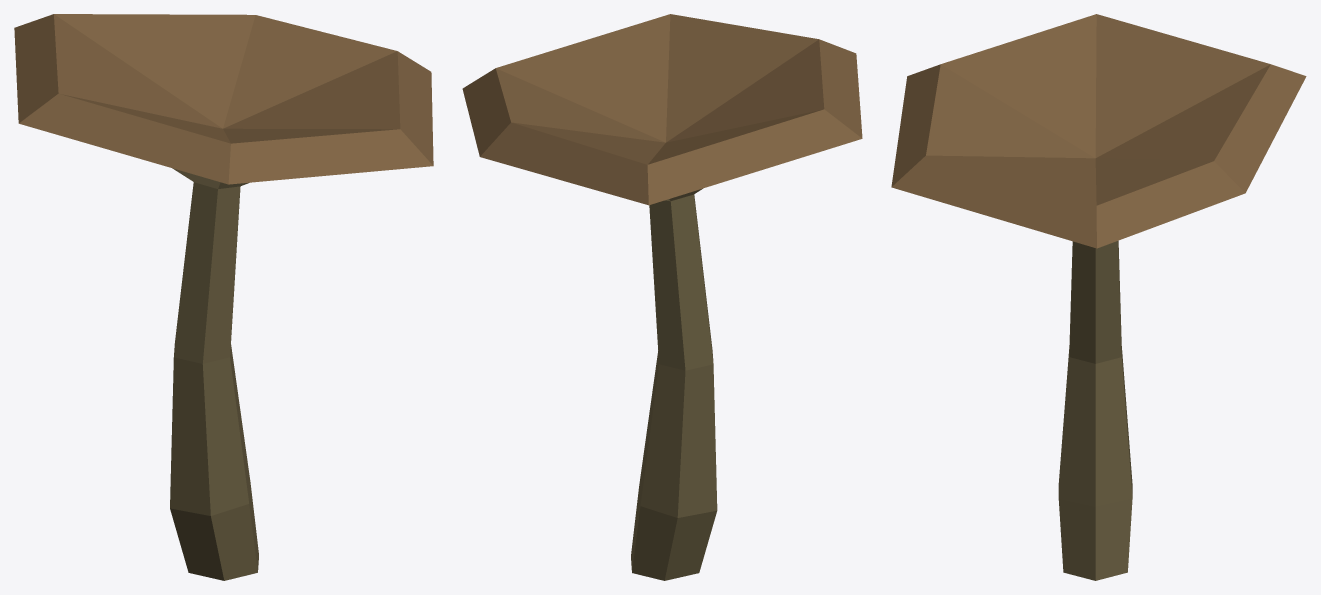
File: Mushroom-E02.fbx
The picture shows the model from 3 angles, left to right: view 1: azimuth 30°, elevation 25°; view 2: azimuth 150°, elevation 25°; view 3: azimuth 270°, elevation 25°; orthographic projection. The views are drawn at different scales.
Parts seen in each view (by area): view 1: Mushroom-E02; view 2: Mushroom-E02; view 3: Mushroom-E02.
Boxes of the visible parts, <box> form: Mushroom-E02: <box>14,14,433,580</box>; Mushroom-E02: <box>462,14,862,580</box>; Mushroom-E02: <box>891,14,1306,580</box>.
Size of the model in its own units: 44.97 by 53.14 by 42.02.
